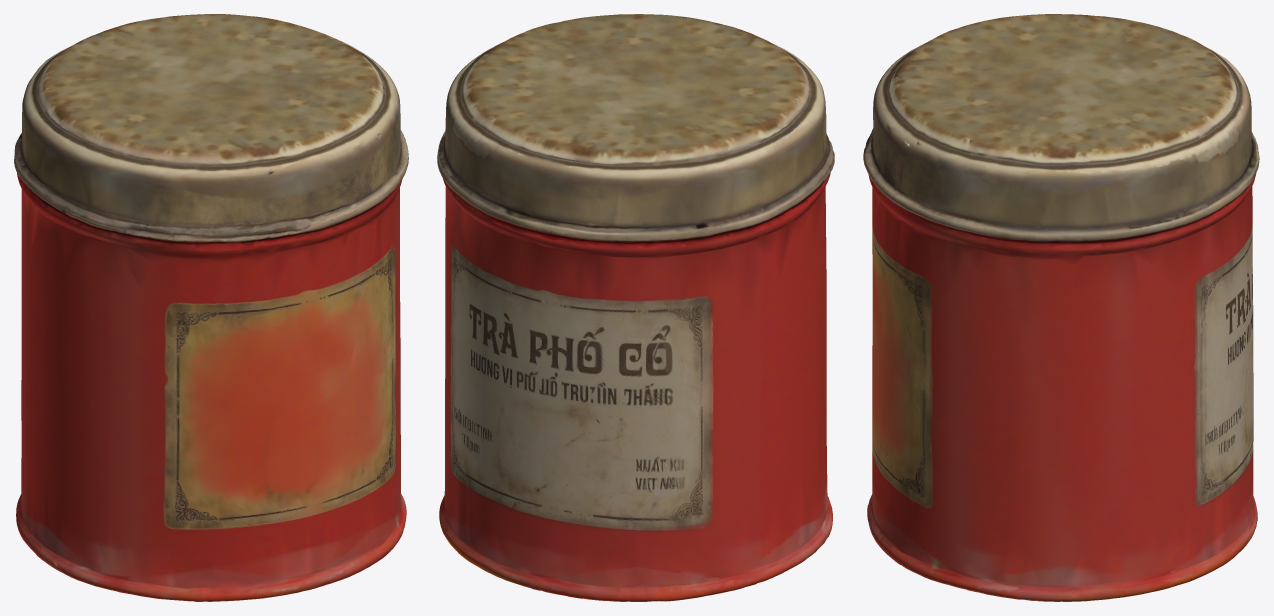
File: Meshy_AI_Red_Vintage_Tea_Tin_0603084617_texture.fbx
The picture shows the model from 3 angles, left to right: view 1: azimuth 30°, elevation 25°; view 2: azimuth 150°, elevation 25°; view 3: azimuth 270°, elevation 25°; orthographic projection.
Parts seen in each view (by area): view 1: Mesh_0; view 2: Mesh_0; view 3: Mesh_0.
Part boxes in pixels (<box>): Mesh_0: <box>14,14,408,601</box>; Mesh_0: <box>437,14,834,601</box>; Mesh_0: <box>863,14,1259,601</box>.
Size of the model in its own units: 163 by 200 by 164.
Materials: 1 (1 with a texture image).
